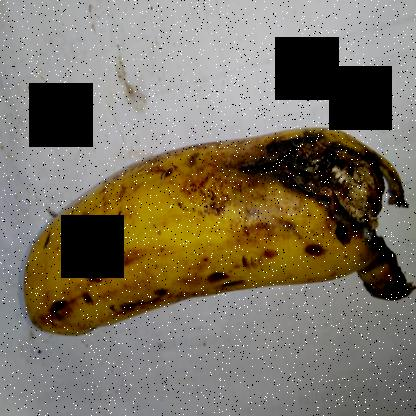ripe: (13, 129, 250, 352)
rotten: (207, 100, 416, 326)
